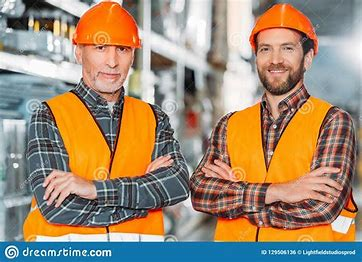Helmet: (244, 1, 325, 104), (66, 1, 149, 97)
Reflective vest: (24, 90, 166, 241), (222, 96, 362, 242)
